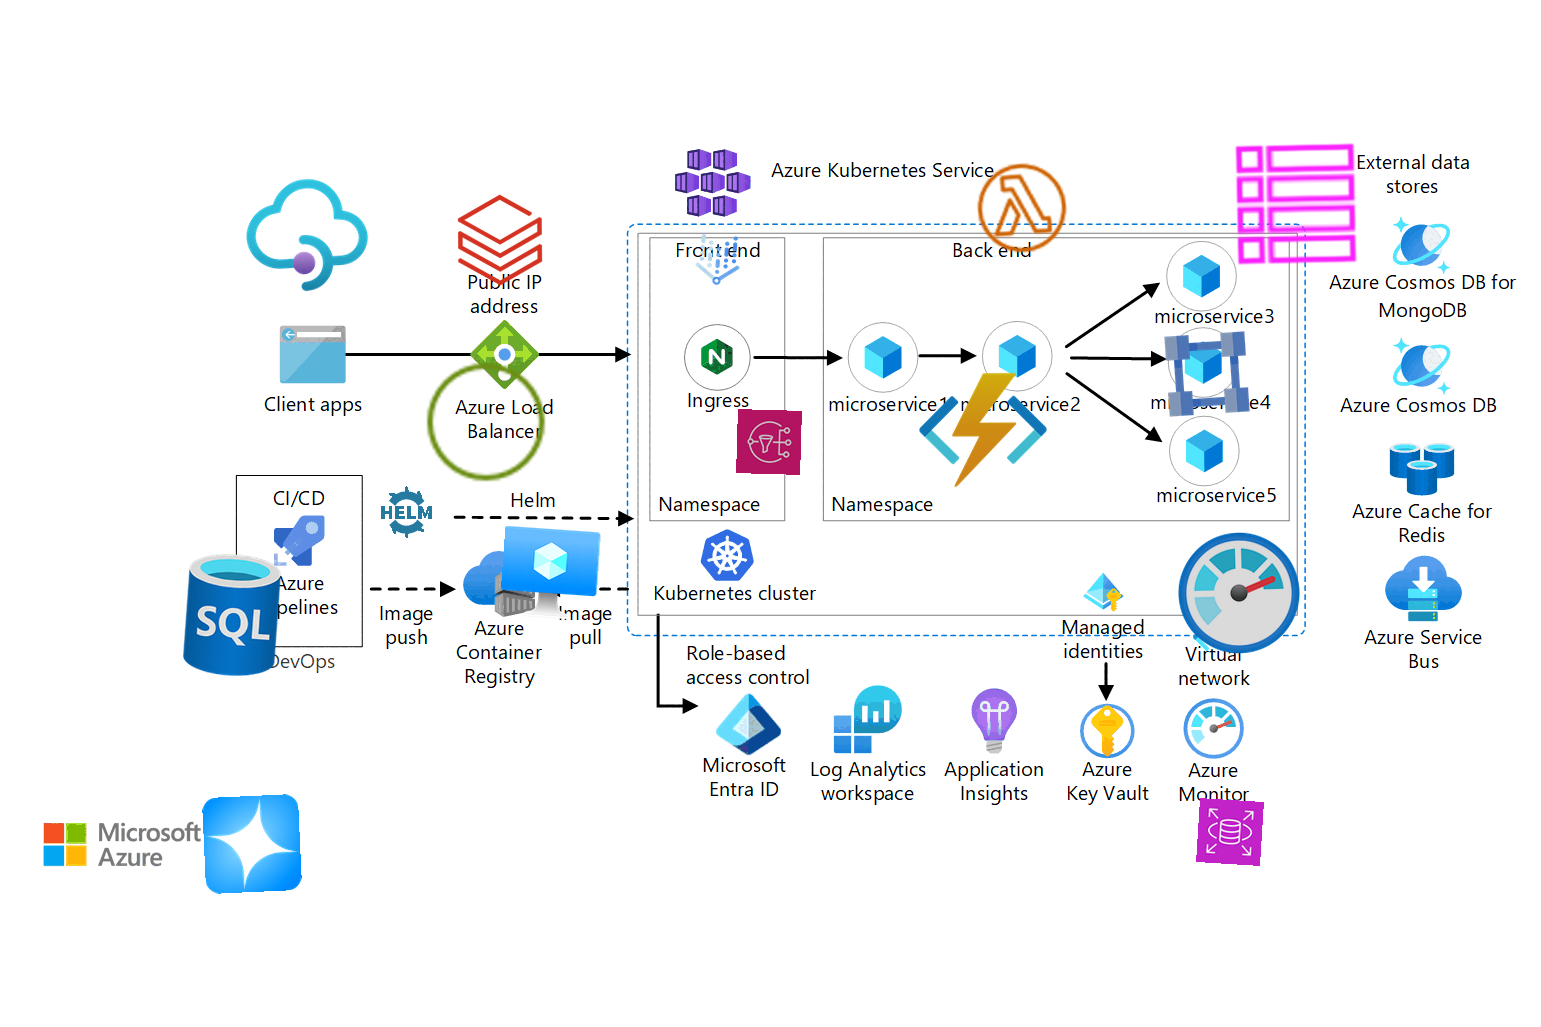aws_amazon_rds: (1196, 798, 1264, 867)
aws_amazon_simple_notification_service: (736, 409, 802, 475)
aws_dynamodb_table: (1231, 138, 1362, 271)
aws_lambda_lambda_function: (970, 156, 1074, 260)
aws_simple_storage_service_object: (420, 356, 551, 487)
azure_api_management_services: (239, 167, 375, 303)
azure_databricks: (451, 191, 549, 289)
azure_function_apps: (918, 364, 1048, 495)
azure_monitor: (1173, 527, 1305, 659)
azure_openai: (201, 793, 302, 895)
azure_sql_database: (163, 546, 301, 684)
azure_virtual_machine: (498, 524, 602, 628)
gcp_vertex_ai: (683, 225, 753, 295)
gcp_virtual_private_cloud: (1155, 322, 1259, 426)
